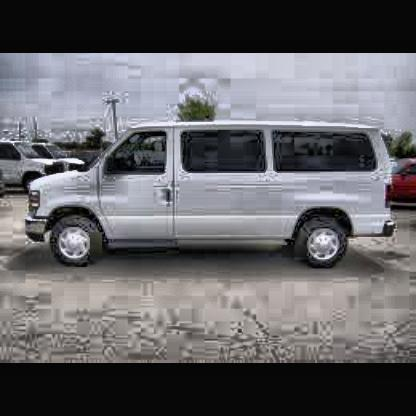Ford E-Series Wagon Van 2012: (30, 123, 401, 273)
